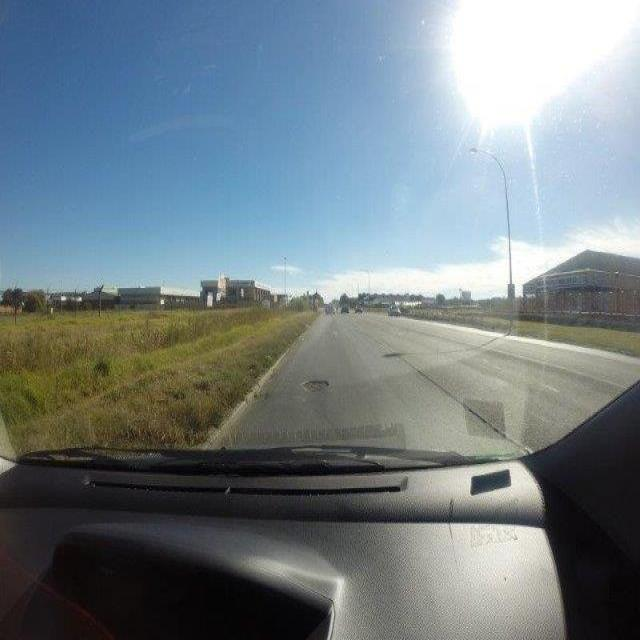lubang: (300, 374, 330, 395), (381, 350, 418, 361)
